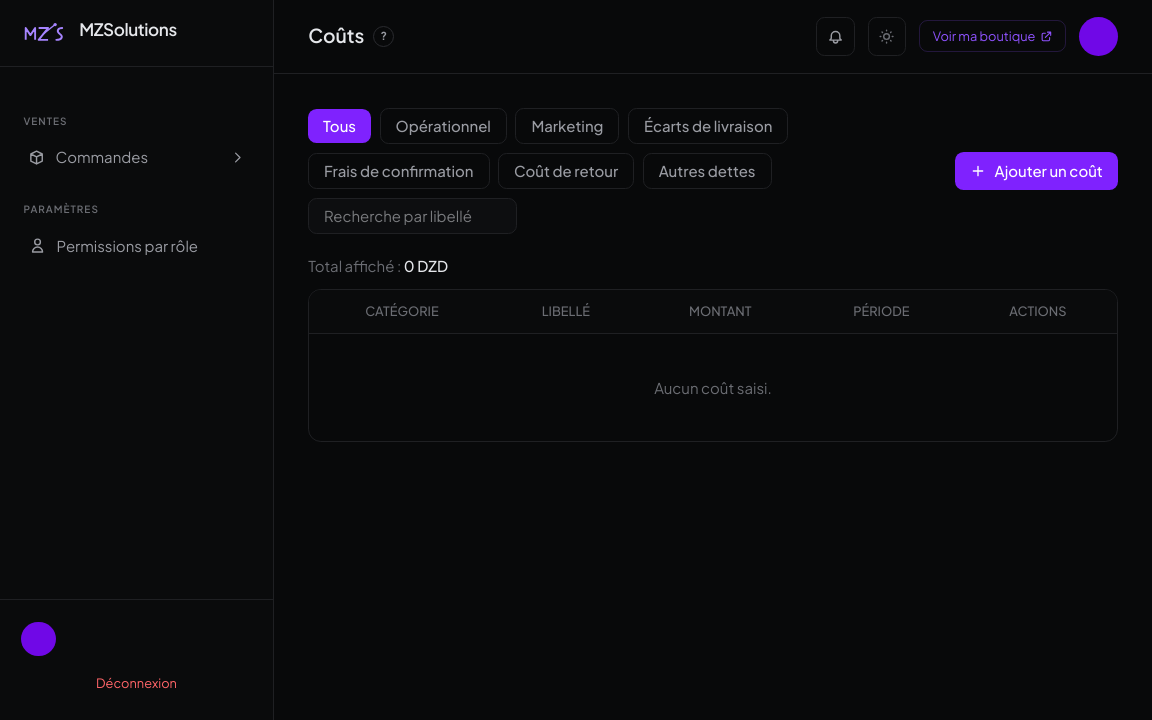
Test: CostsPage › shows a field error when adding a cost fails
Expected: the text "Aucun coût saisi." is shown, left=309, top=334, right=1117, bottom=441
Click the button "Ajouter un coût": click(1036, 171) left=955, top=152, right=1118, bottom=190
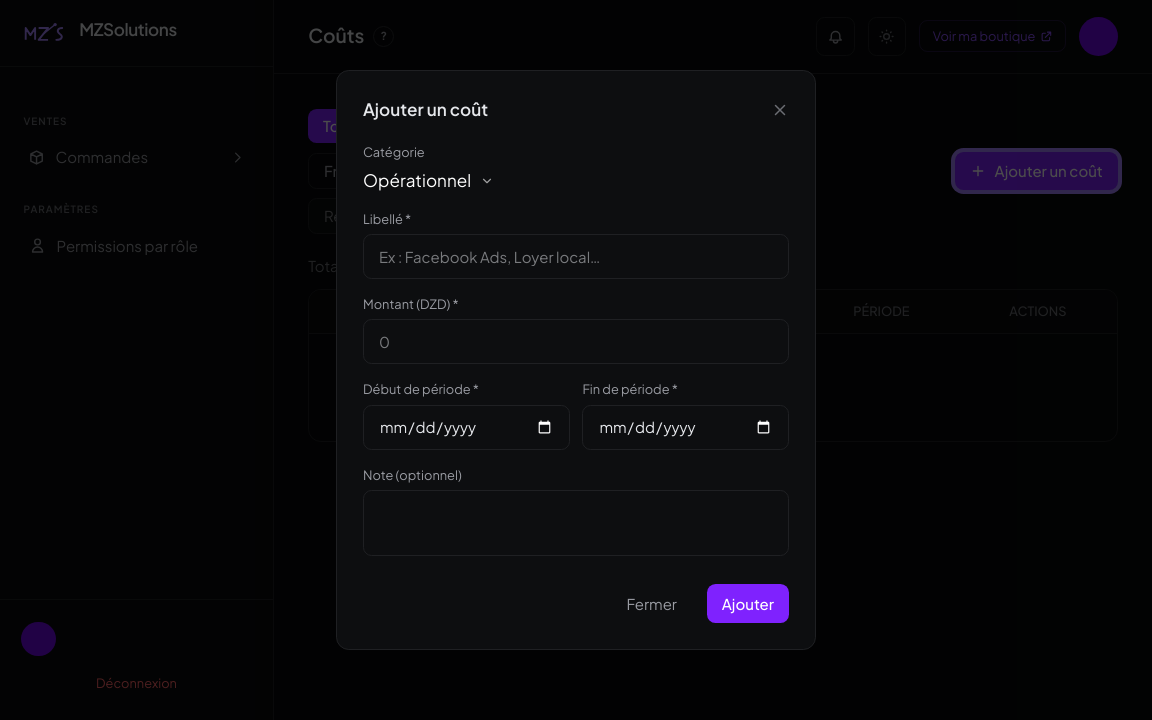
In the field with placeholder "Ex : Facebook Ads, Loyer local…": (576, 256) left=363, top=234, right=789, bottom=279, type "Loyer"
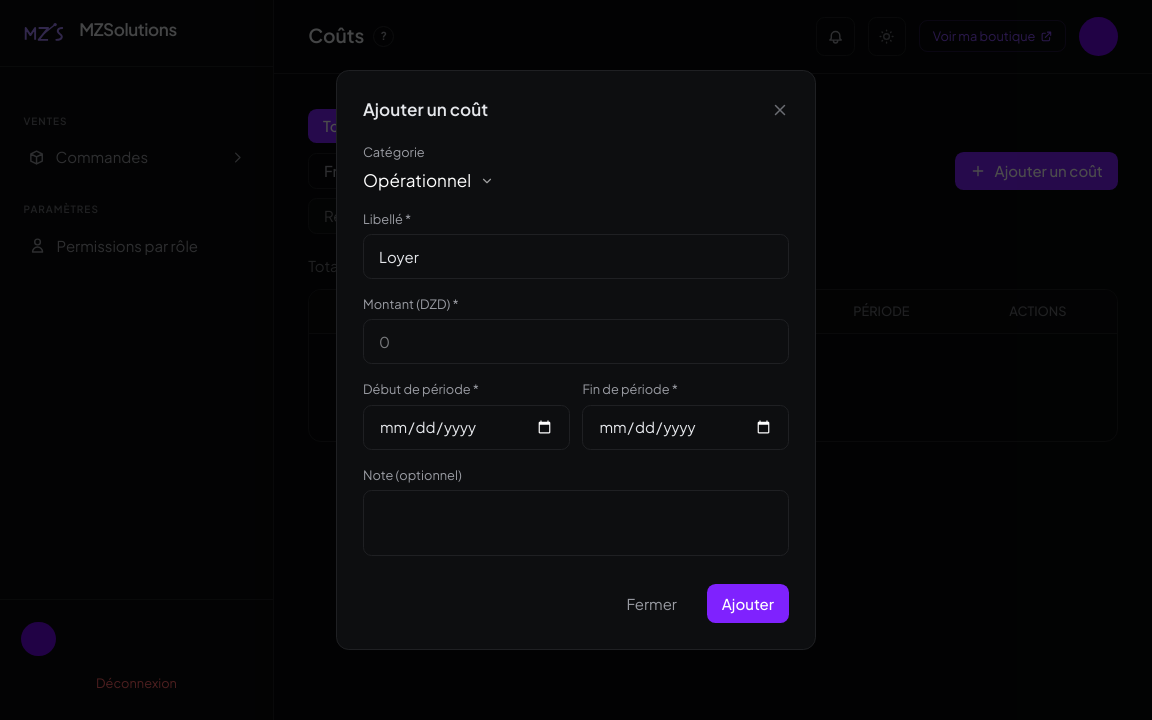
In the date field below "Début de période *": (466, 427) left=363, top=405, right=570, bottom=450, type "2026-07-01"
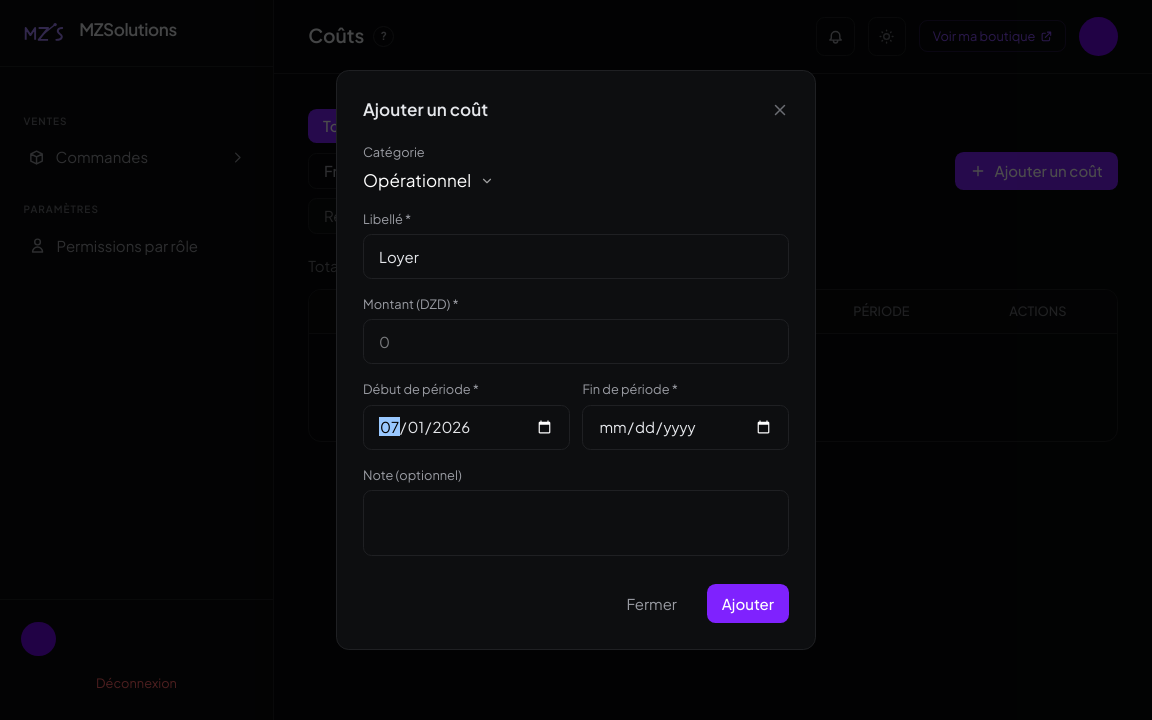
In the date field below "Fin de période *": (686, 427) left=582, top=405, right=789, bottom=450, type "2026-07-31"
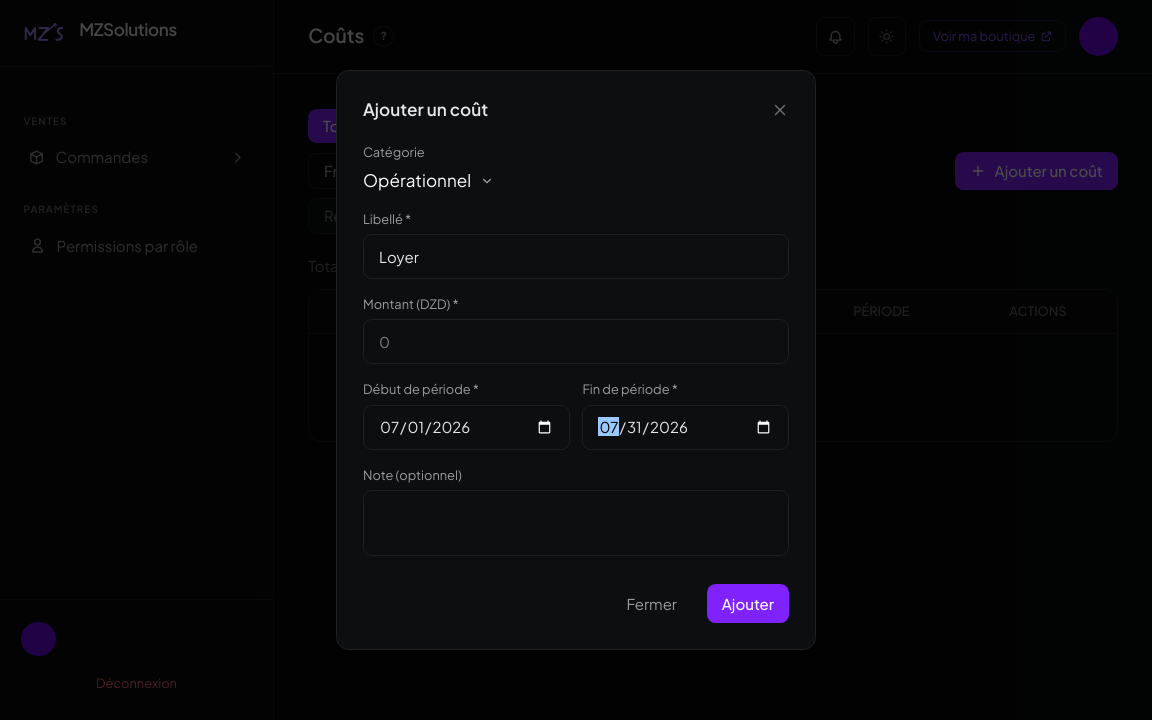
In the number field with placeholder "0": (576, 342) left=363, top=319, right=789, bottom=364, type "5000"
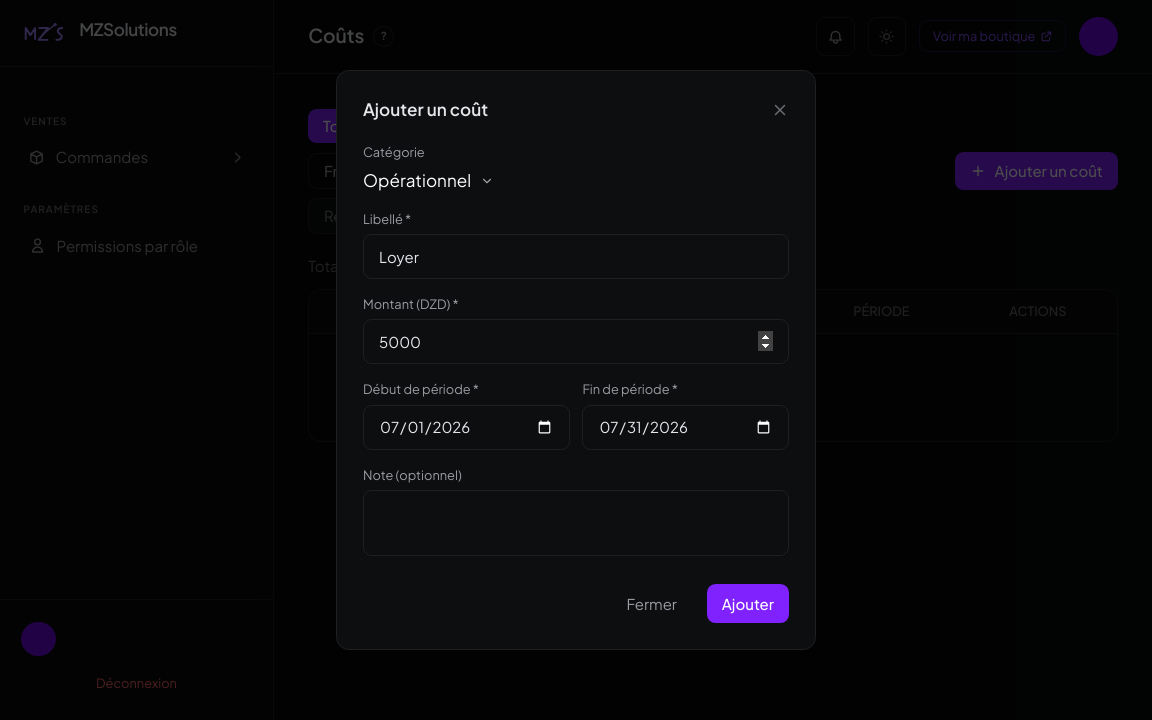
Click the button "Ajouter": click(748, 604) left=707, top=584, right=789, bottom=623
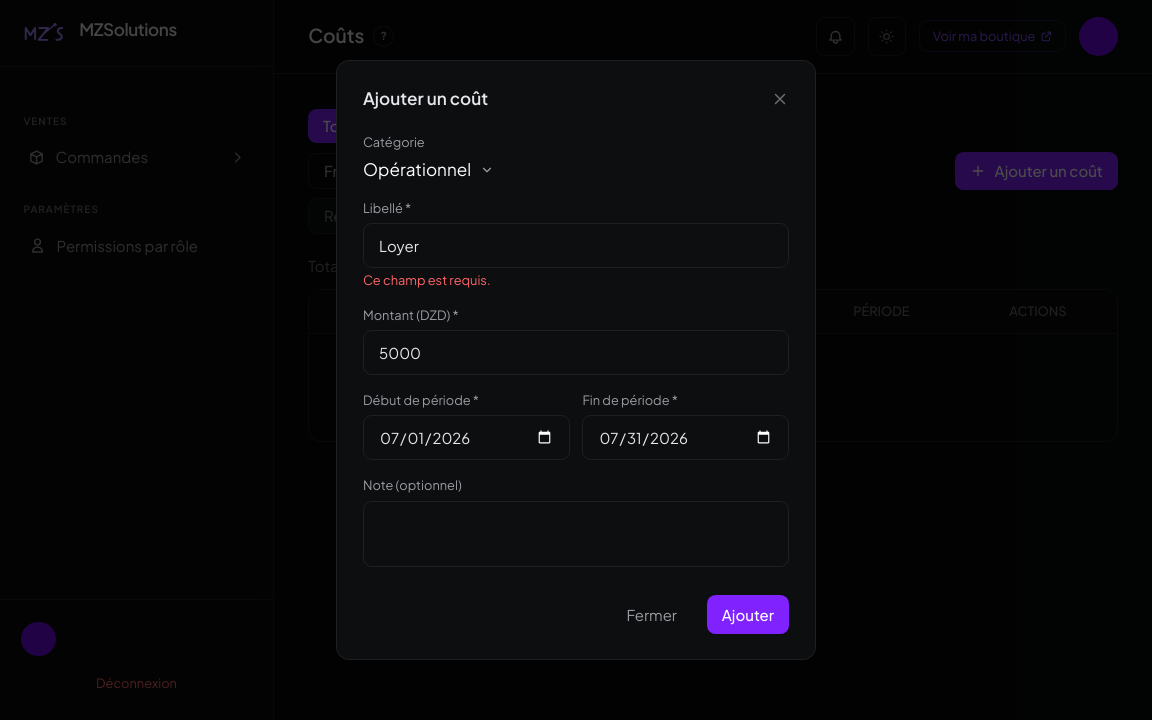
Now the text "Ce champ est requis." is shown, box left=363, top=272, right=491, bottom=288
